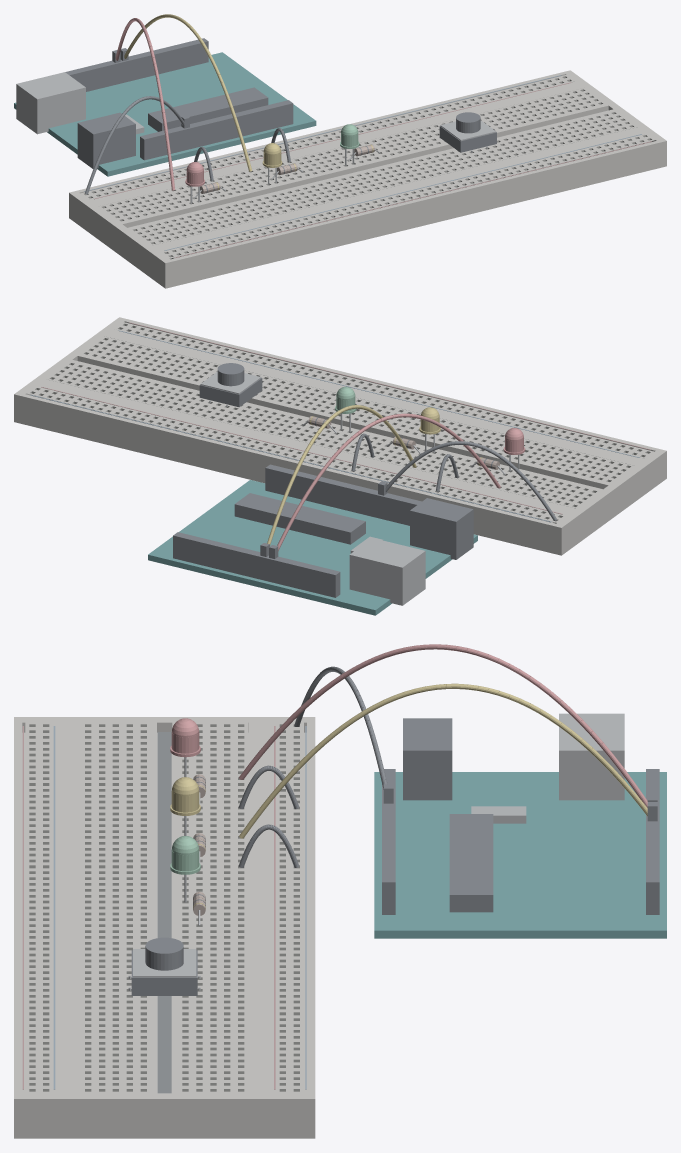
Rendered from step-14.glb.
3 renders of one model, top to bottom at view 1: azimuth 30°, elevation 25°; view 2: azimuth 150°, elevation 25°; view 3: azimuth 270°, elevation 25°, orthographic. The views are drawn at different scales.
Parts seen in each view (by area): view 1: breadboard__mesh, uno__mesh, button__mesh, wire_yellow_signal__mesh, wire_red_signal__mesh, wire_ground__mesh, led_red__mesh, led_green__mesh, led_yellow__mesh; view 2: breadboard__mesh, uno__mesh, button__mesh, wire_red_signal__mesh, wire_yellow_signal__mesh, wire_ground__mesh, led_red__mesh, led_green__mesh, led_yellow__mesh; view 3: breadboard__mesh, uno__mesh, button__mesh, wire_yellow_signal__mesh, wire_red_signal__mesh, wire_ground__mesh, led_green__mesh, led_red__mesh, led_yellow__mesh.
Boxes of the visible parts, bbox=[...] form: breadboard__mesh: bbox=[69, 70, 666, 288]; uno__mesh: bbox=[14, 38, 316, 176]; button__mesh: bbox=[439, 112, 496, 152]; wire_yellow_signal__mesh: bbox=[120, 14, 252, 171]; wire_red_signal__mesh: bbox=[112, 18, 175, 190]; wire_ground__mesh: bbox=[85, 96, 189, 194]; led_red__mesh: bbox=[185, 162, 204, 203]; led_green__mesh: bbox=[340, 124, 359, 165]; led_yellow__mesh: bbox=[262, 143, 282, 184]; breadboard__mesh: bbox=[14, 317, 666, 555]; uno__mesh: bbox=[148, 464, 477, 615]; button__mesh: bbox=[199, 363, 262, 407]; wire_red_signal__mesh: bbox=[269, 413, 500, 558]; wire_yellow_signal__mesh: bbox=[260, 405, 416, 556]; wire_ground__mesh: bbox=[378, 441, 556, 520]; led_red__mesh: bbox=[503, 428, 525, 471]; led_green__mesh: bbox=[335, 386, 356, 432]; led_yellow__mesh: bbox=[419, 407, 440, 452]; breadboard__mesh: bbox=[14, 717, 315, 1138]; uno__mesh: bbox=[374, 713, 666, 938]; button__mesh: bbox=[128, 937, 200, 995]; wire_yellow_signal__mesh: bbox=[239, 683, 657, 838]; wire_red_signal__mesh: bbox=[239, 644, 657, 807]; wire_ground__mesh: bbox=[294, 666, 393, 803]; led_green__mesh: bbox=[170, 836, 200, 902]; led_red__mesh: bbox=[170, 718, 200, 776]; led_yellow__mesh: bbox=[170, 777, 200, 835].
Size of the model in its own units: 0.165 by 0.0407 by 0.1192.
